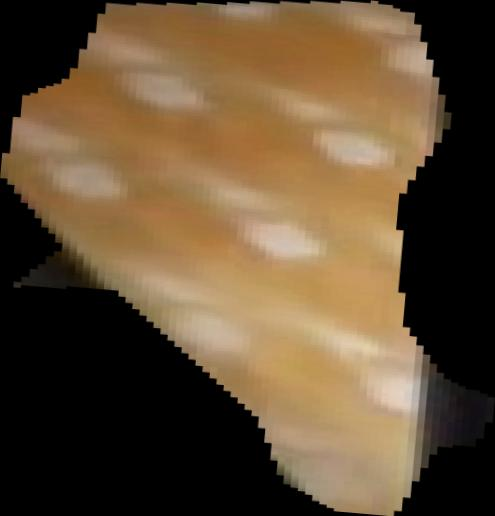flat: (1, 1, 495, 516)
